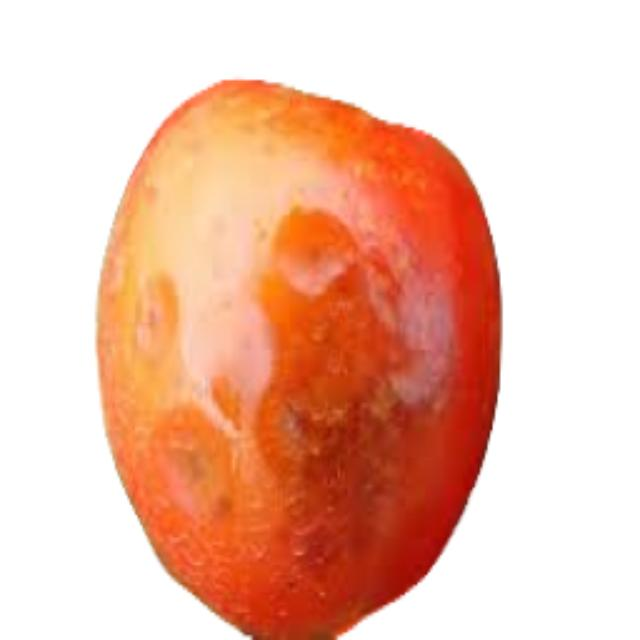defect: (91, 69, 509, 640)
